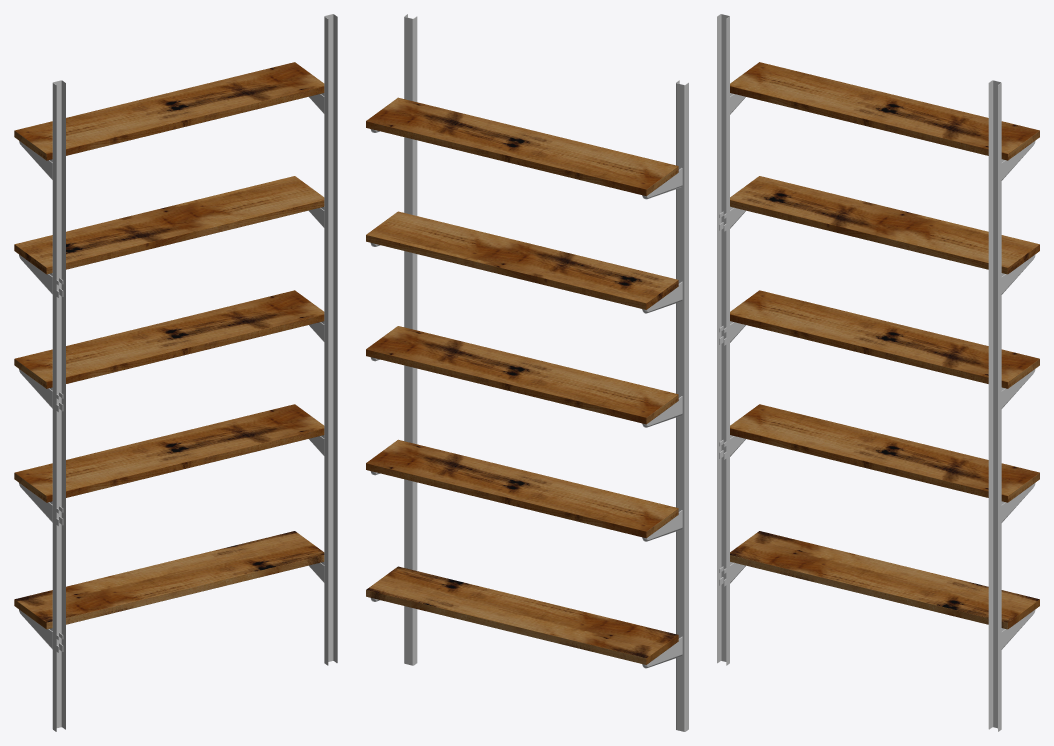
The model's file is Shelves.fbx.
3 renders of one model, left to right at view 1: azimuth 30°, elevation 25°; view 2: azimuth 150°, elevation 25°; view 3: azimuth 330°, elevation 25°, orthographic.
Visible parts, largest first — view 1: Wood, Metal; view 2: Wood, Metal; view 3: Wood, Metal.
Boxes of the visible parts, x1=… form: Wood: x1=14, y1=62, x2=324, y2=629; Metal: x1=19, y1=14, x2=337, y2=731; Wood: x1=366, y1=97, x2=678, y2=664; Metal: x1=370, y1=14, x2=688, y2=731; Wood: x1=730, y1=62, x2=1039, y2=629; Metal: x1=717, y1=14, x2=1035, y2=731.
Size of the model in its own units: 0.8841 by 1.94 by 0.2293.
